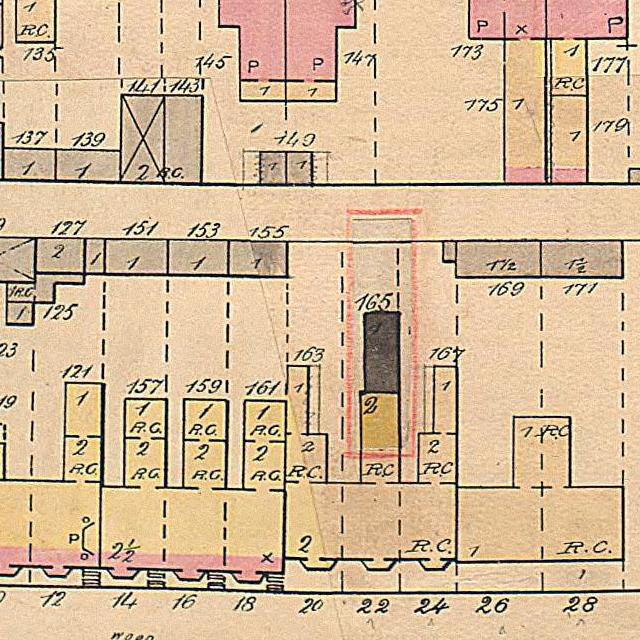building-footprints: (283, 366, 456, 570), (99, 399, 285, 582), (456, 417, 623, 563), (0, 383, 103, 576), (469, 0, 547, 184), (546, 0, 627, 96), (285, 0, 355, 102), (218, 0, 285, 101), (121, 94, 164, 184), (164, 96, 202, 184), (550, 96, 587, 184), (455, 241, 541, 277), (541, 241, 623, 278), (364, 312, 399, 392), (168, 239, 228, 276), (104, 240, 168, 274), (6, 274, 83, 302), (229, 242, 287, 277), (55, 151, 120, 182), (36, 238, 84, 274), (16, 0, 54, 43), (3, 150, 56, 180), (0, 237, 35, 282), (286, 152, 312, 185), (259, 152, 285, 184), (85, 239, 105, 274), (6, 302, 33, 324), (442, 241, 456, 262), (629, 169, 640, 184)
